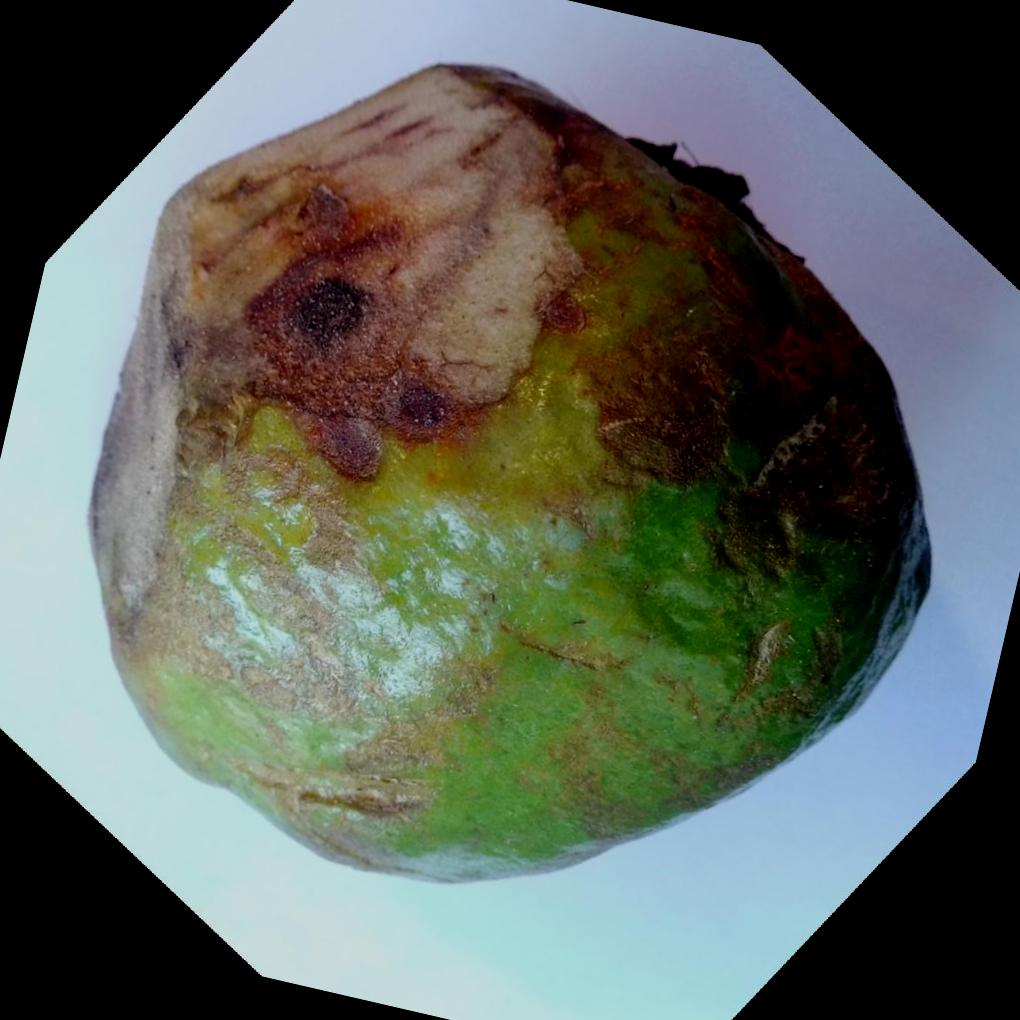FreshOrange: (84, 59, 930, 884)
